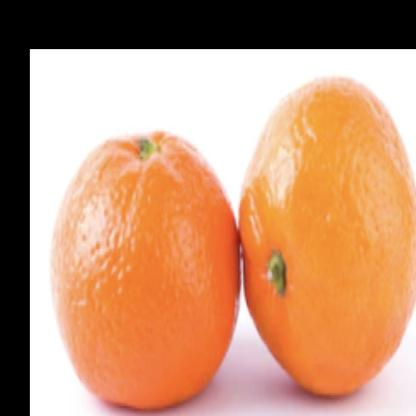fresh: (50, 71, 416, 416)
